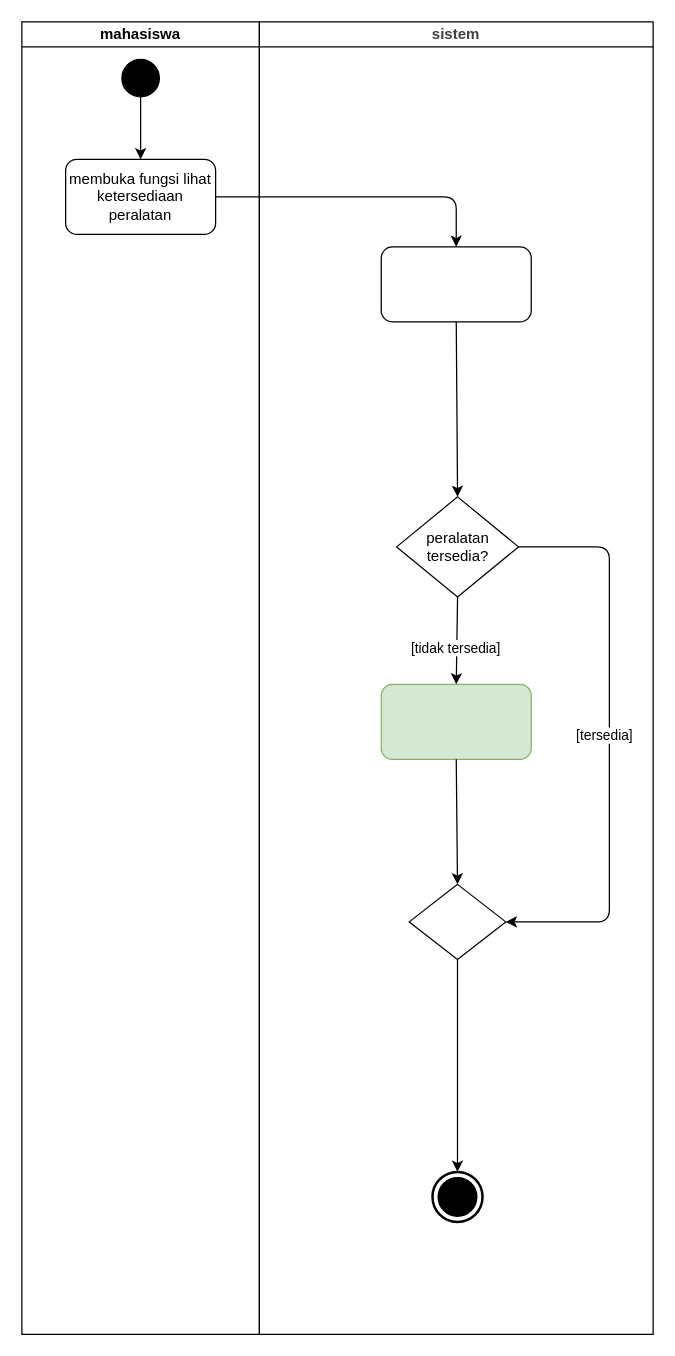
The diagram is 675 pixels wide and 1356 high, and some of its shapes have lost their labels. The box of each missing label's shape, as (x1, y1, x2, y2) in pixels:
menampilkan daftar peralatan serta status ketersediaan nya: (380, 246, 531, 322)
menampilkan pesan tidak ada yang tersedia: (380, 683, 531, 759)
